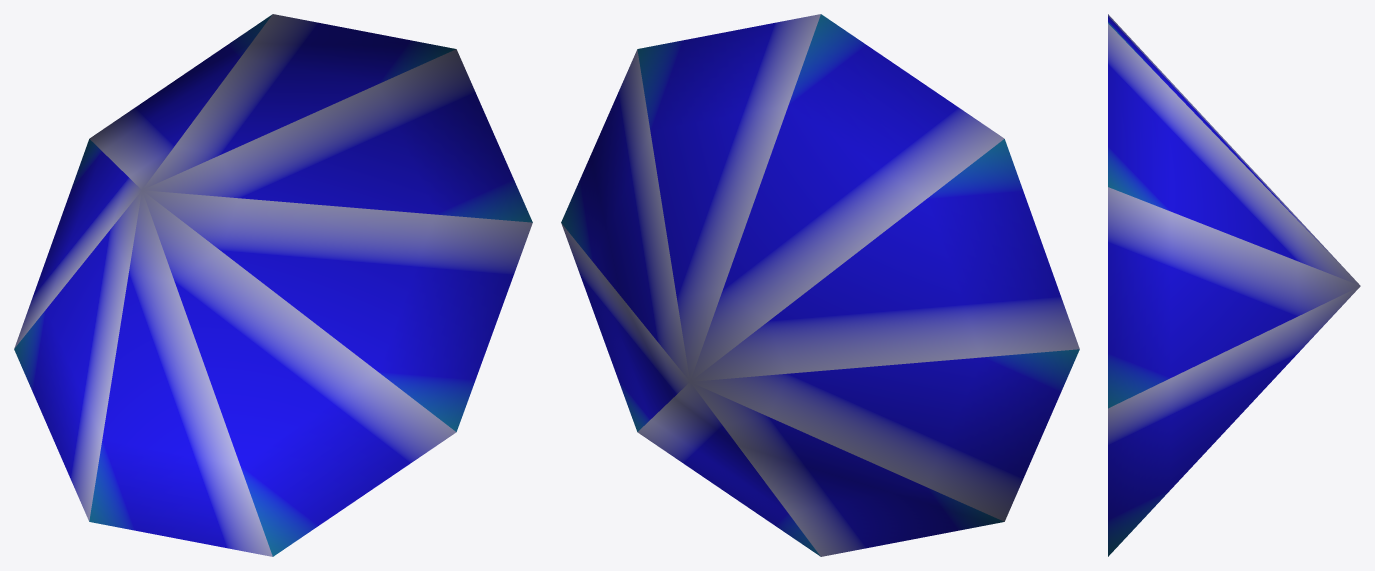
3 views of the same model, side by side, from view 1: azimuth 30°, elevation 25°; view 2: azimuth 150°, elevation 25°; view 3: azimuth 270°, elevation 25° (orthographic). The views are drawn at different scales.
Visible parts, largest first — view 1: T1L4M003_8; view 2: T1L4M003_8; view 3: T1L4M003_8.
Boxes of the visible parts, <box> form: T1L4M003_8: <box>14,14,532,556</box>; T1L4M003_8: <box>561,14,1079,556</box>; T1L4M003_8: <box>1108,14,1360,556</box>.
Bounding box in the file's own units: 0.458 × 0.458 × 0.2002.
